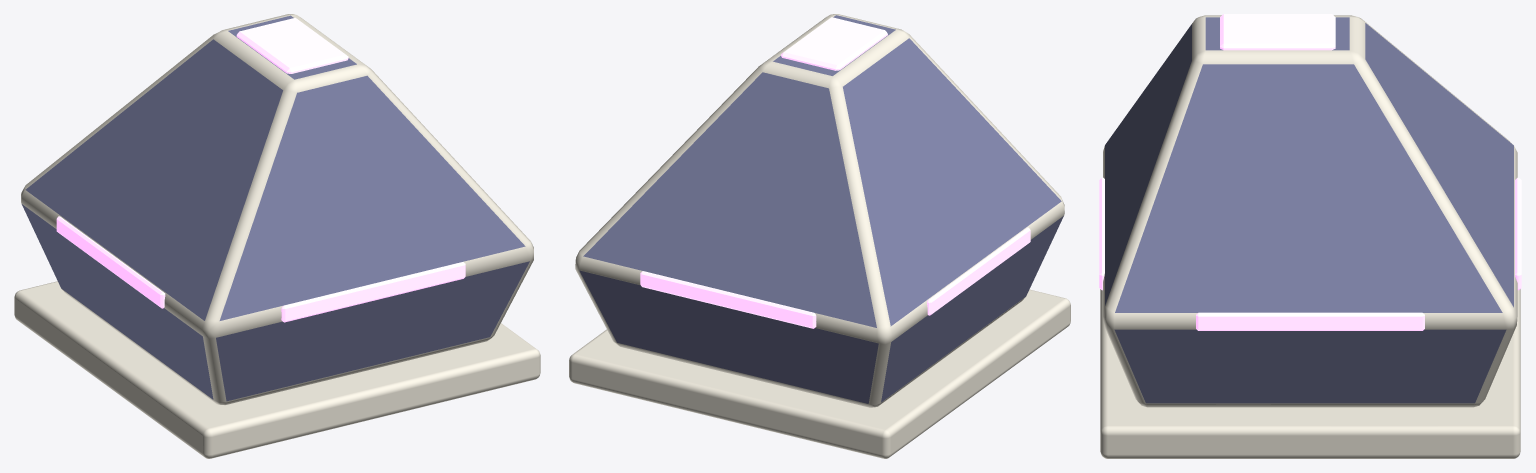
File: R4X_Stealth.fbx
3 views of the same model, side by side, from view 1: azimuth 30°, elevation 25°; view 2: azimuth 150°, elevation 25°; view 3: azimuth 270°, elevation 25° (orthographic). The views are drawn at different scales.
Visible parts, largest first — view 1: R4X_Stealth_Body; view 2: R4X_Stealth_Body; view 3: R4X_Stealth_Body.
Boxes of the visible parts, <box> form: R4X_Stealth_Body: <box>14,14,540,458</box>; R4X_Stealth_Body: <box>569,14,1070,458</box>; R4X_Stealth_Body: <box>1099,14,1521,458</box>.
Bounding box in the file's own units: 0.516 × 0.4669 × 0.516.
